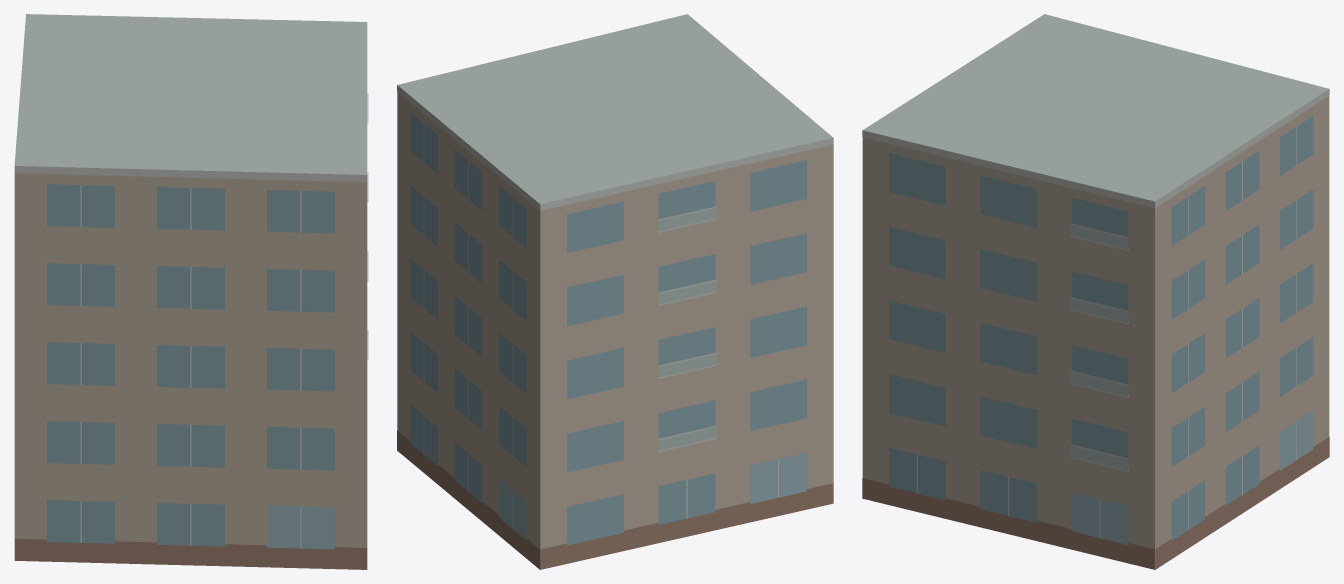
The model's file is survey-upis-32785323.glb.
3 renders of one model, left to right at view 1: azimuth 30°, elevation 25°; view 2: azimuth 150°, elevation 25°; view 3: azimuth 270°, elevation 25°, orthographic. The views are drawn at different scales.
Parts seen in each view (by area): view 1: survey-upis-32785323.tmp; view 2: survey-upis-32785323.tmp; view 3: survey-upis-32785323.tmp.
Part boxes in pixels (bbox=[...]): survey-upis-32785323.tmp: bbox=[14, 14, 368, 569]; survey-upis-32785323.tmp: bbox=[397, 14, 833, 569]; survey-upis-32785323.tmp: bbox=[862, 14, 1329, 569].
Bounding box in the file's own units: 14.43 × 13.2 × 15.18.
